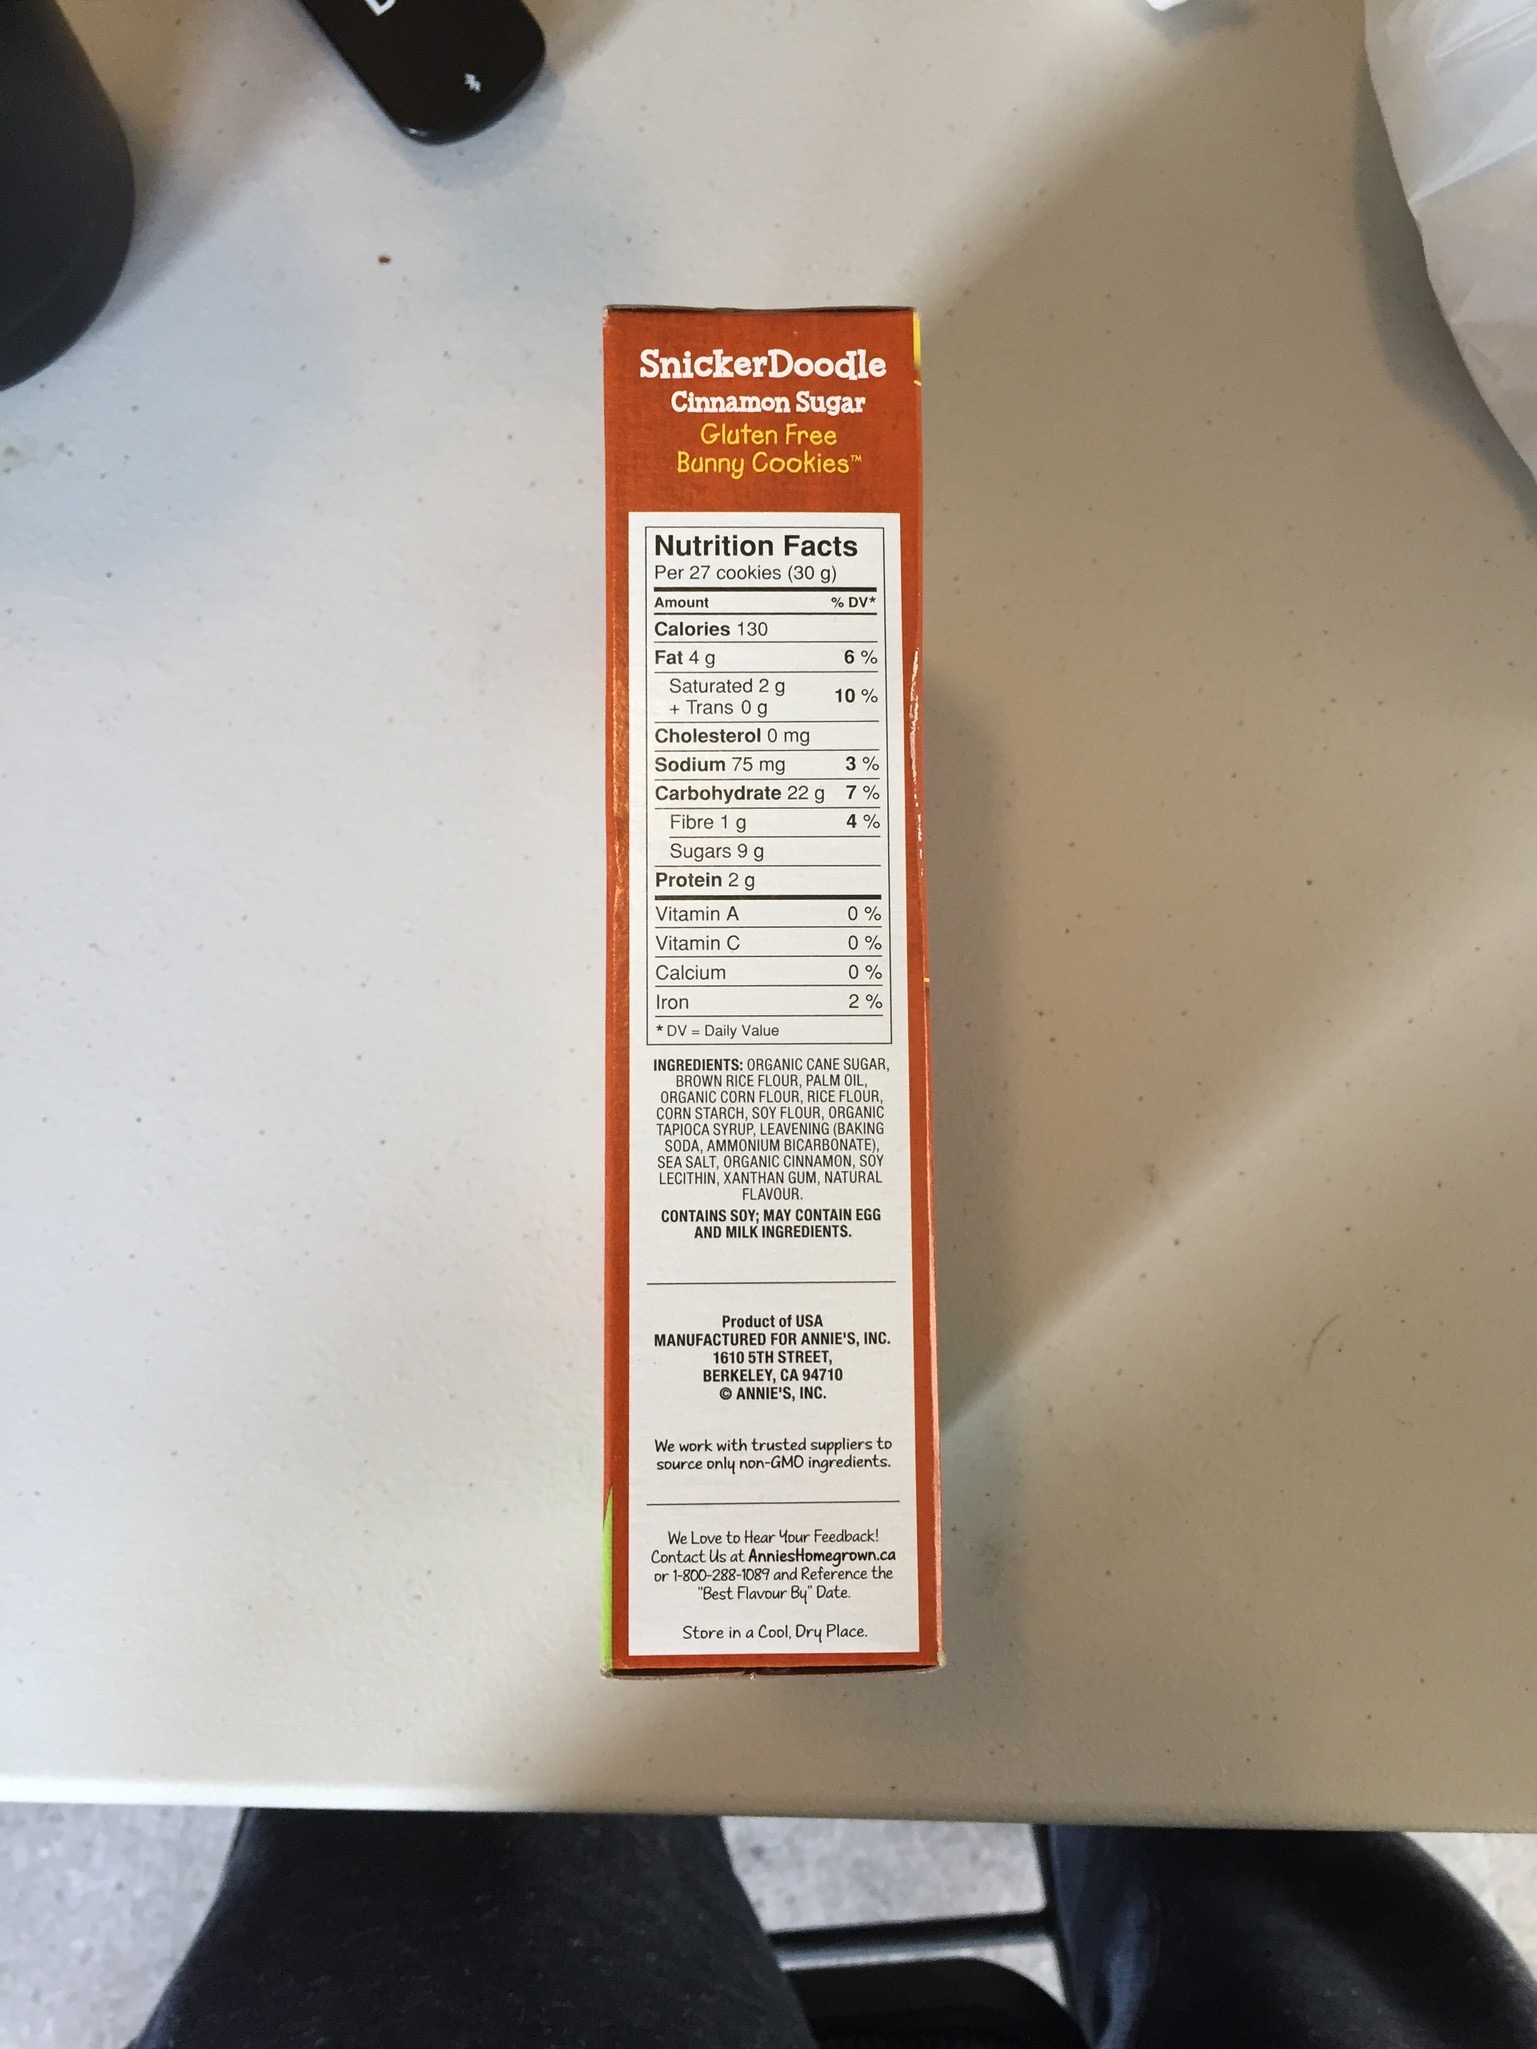annies_snickerdoodles_cinnamon_sugar: (610, 323, 930, 1657)
